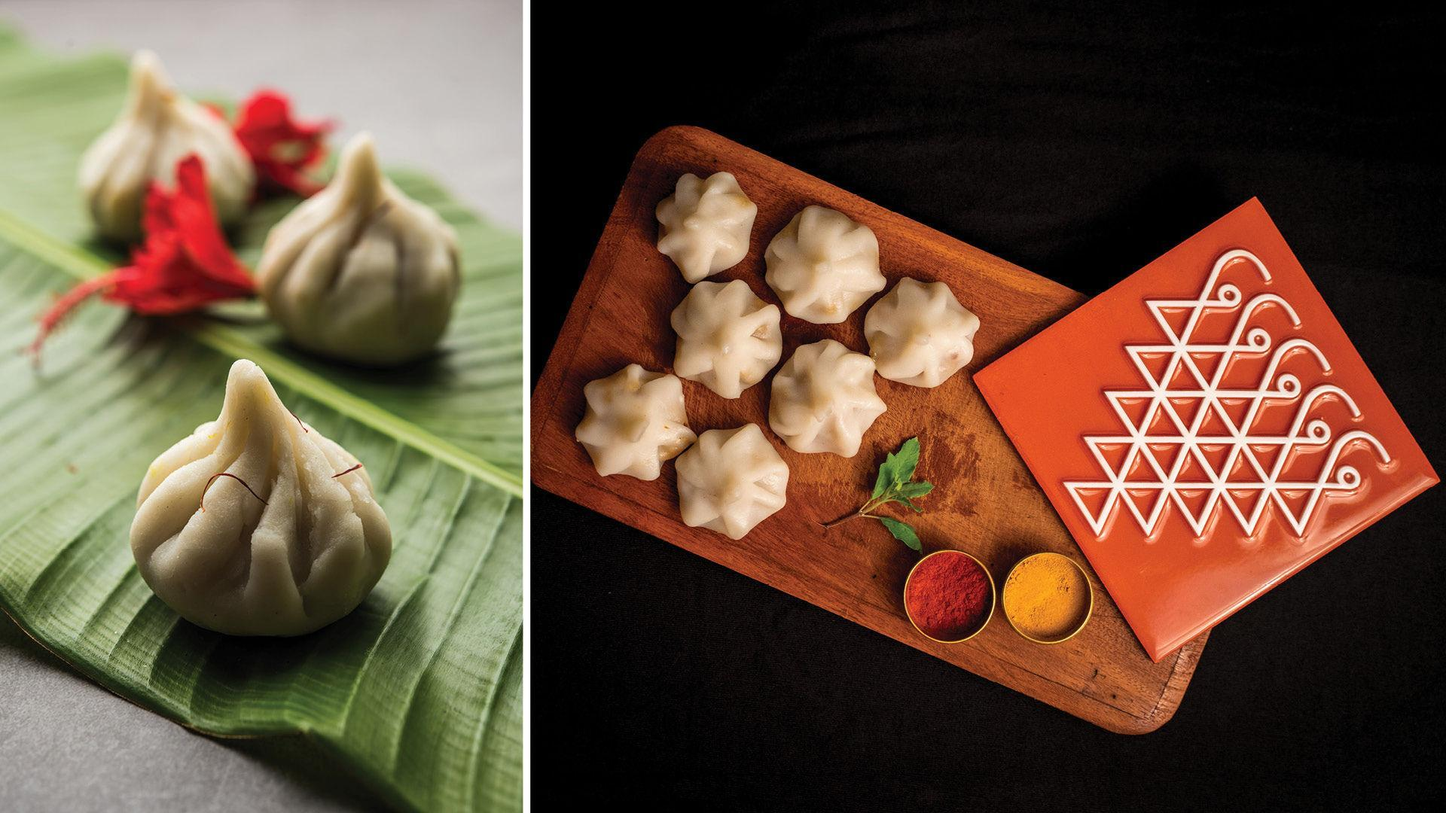modak: (128, 354, 393, 641), (245, 126, 476, 358), (60, 32, 243, 242), (762, 180, 890, 332), (572, 355, 699, 485), (632, 157, 756, 287), (665, 277, 785, 402), (770, 339, 896, 456), (864, 271, 979, 389), (677, 429, 794, 537)
